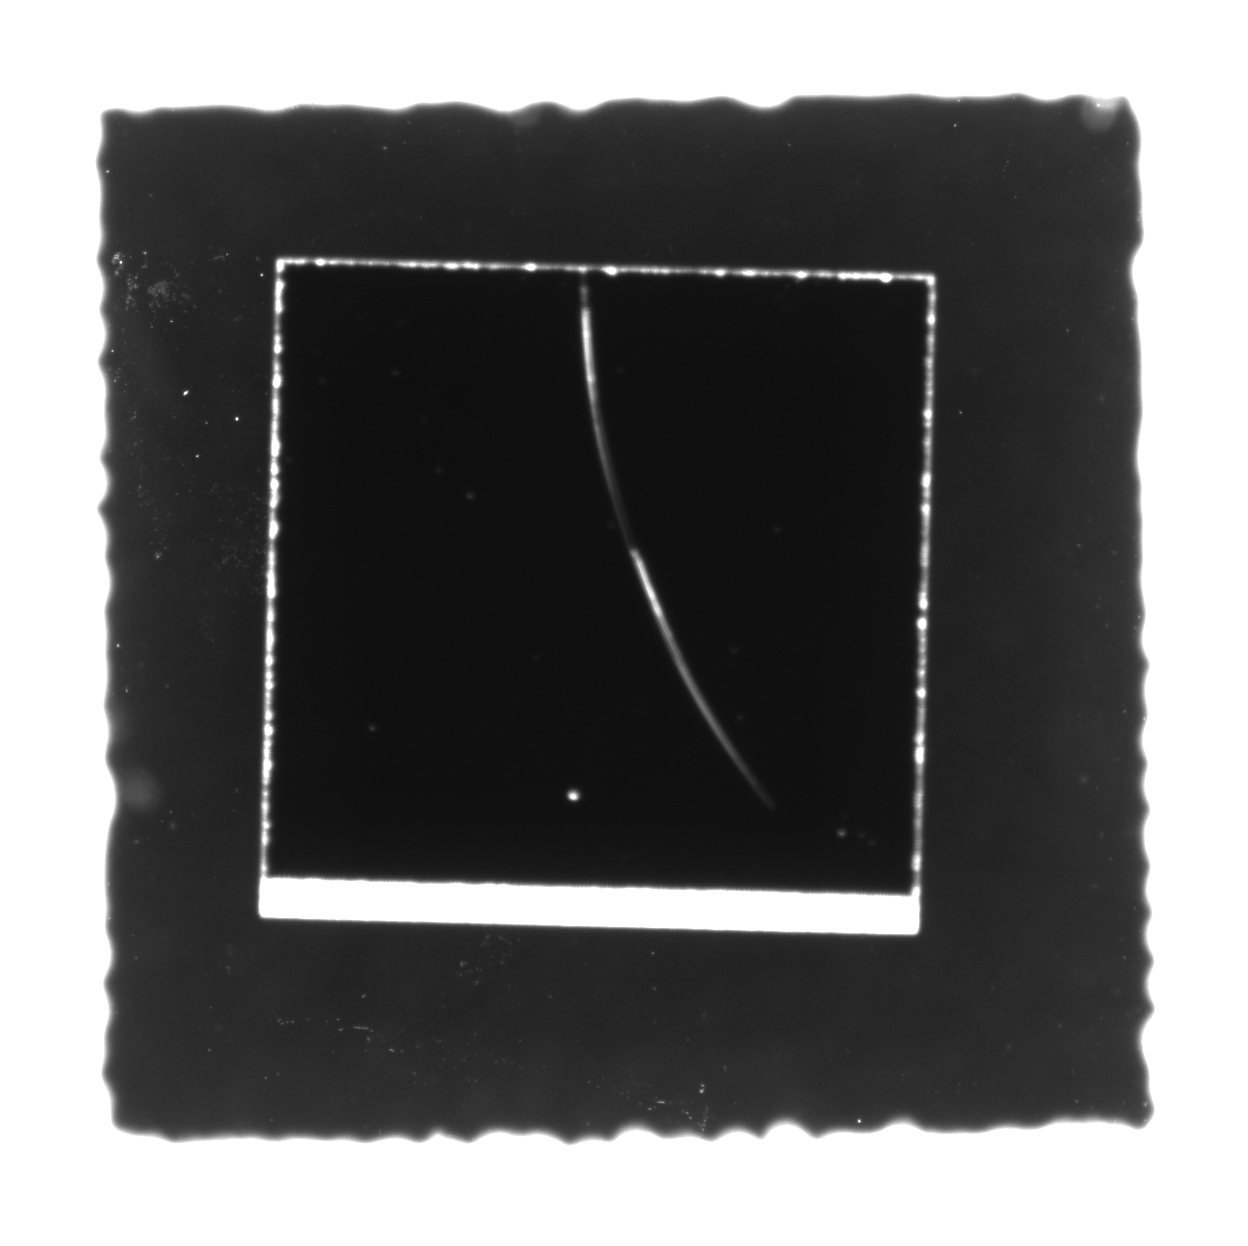dot: (559, 783, 587, 809)
light_scratch: (565, 292, 768, 787)
